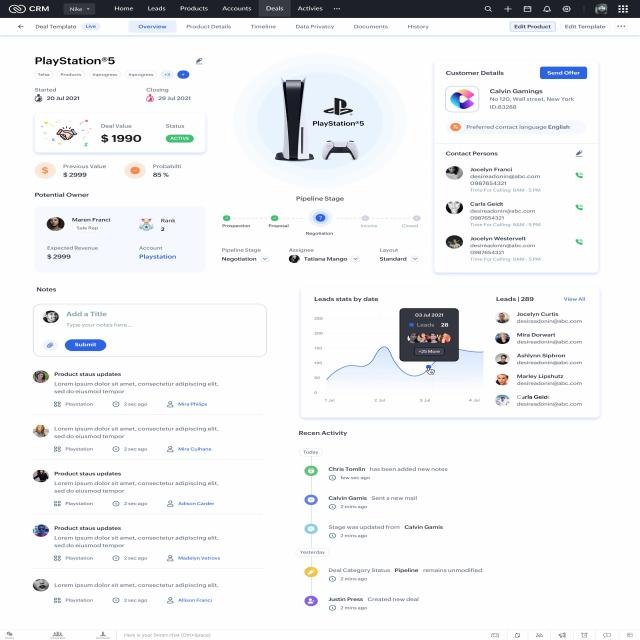button: (540, 66, 588, 79), (510, 21, 556, 32), (66, 339, 107, 351), (165, 134, 194, 143)
